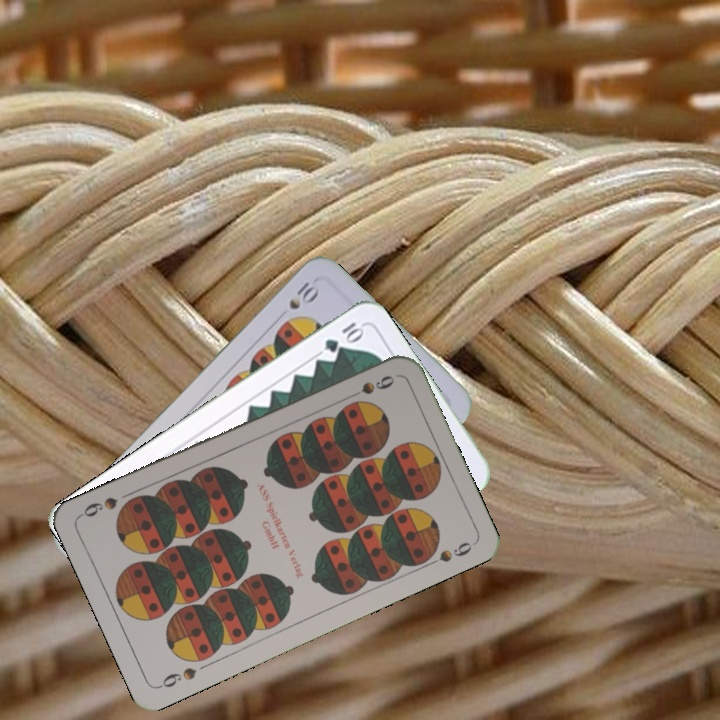G10: (320, 318, 368, 355)
S10: (284, 277, 320, 312)
S9: (342, 371, 398, 403), (155, 663, 200, 691)
